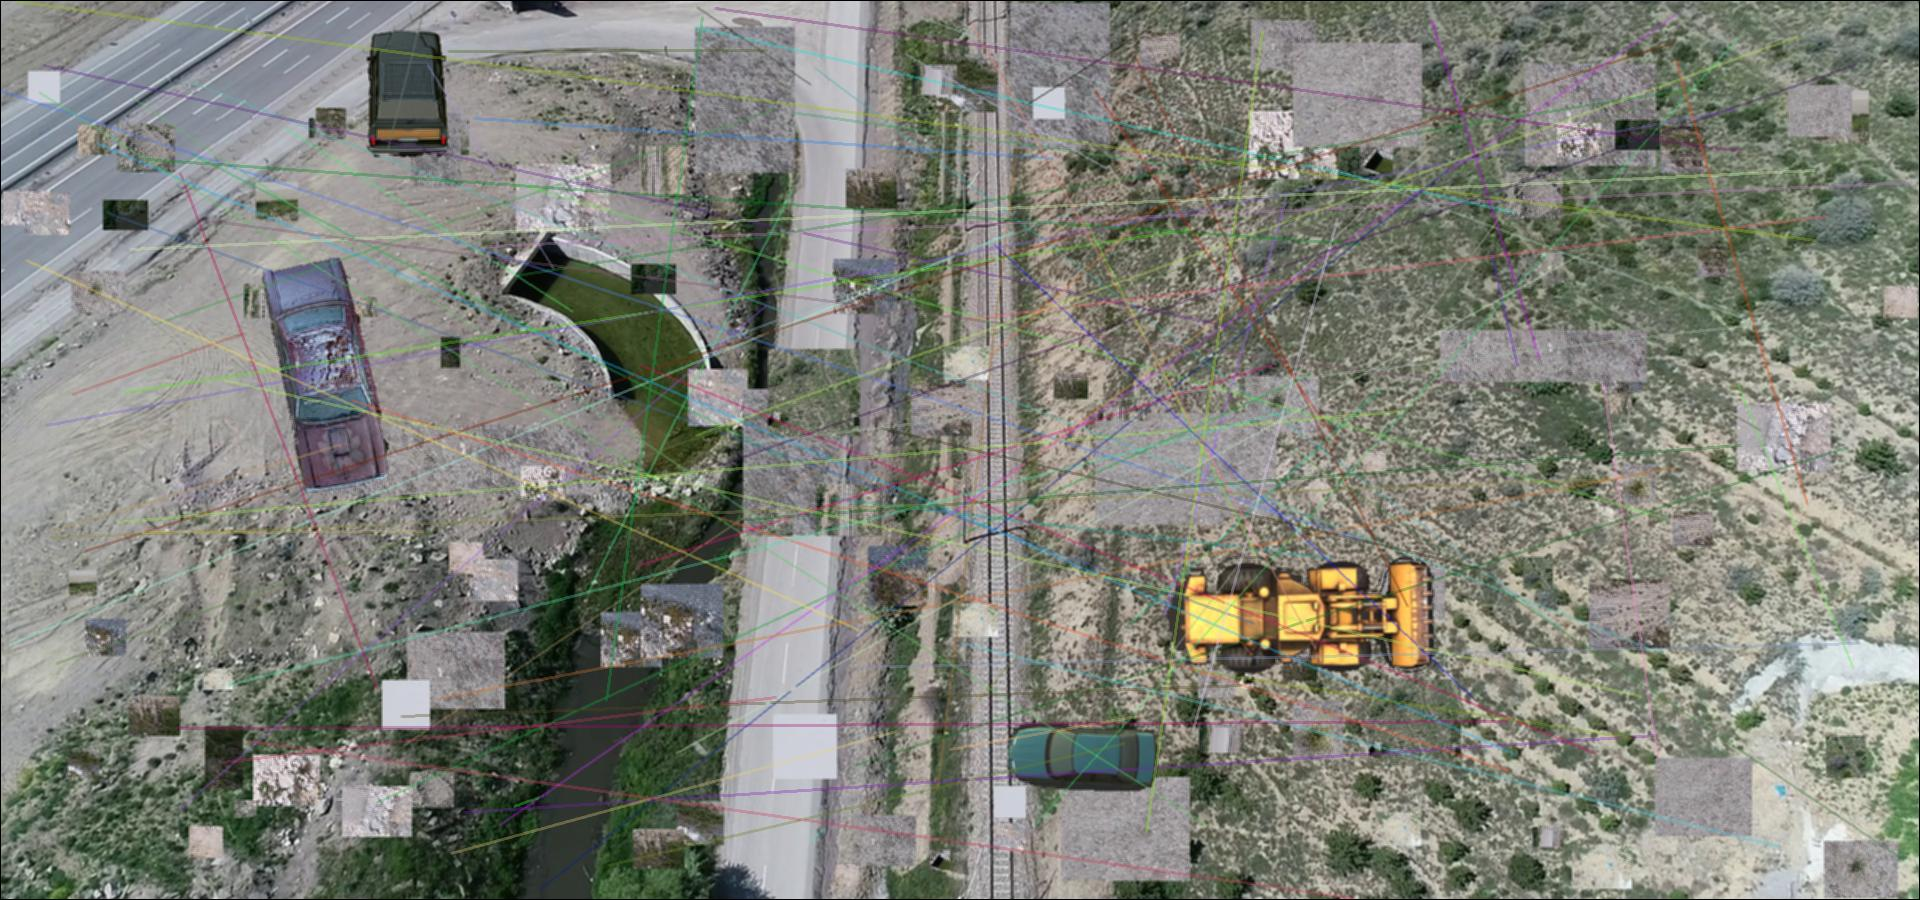arac: (1164, 551, 1439, 677), (257, 258, 396, 492), (360, 31, 451, 157), (1008, 722, 1167, 791)
